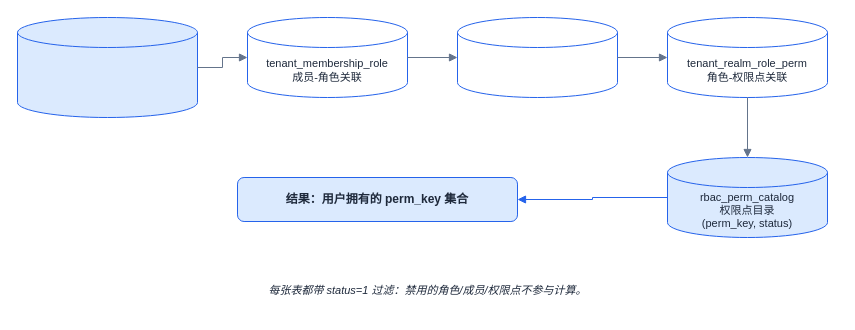
This 855x330 diagram has some shape labels left out. The shapes that lost their labels are listed below. From the top down, each one's box as (x1, y1, x2, y2) in pixels, then its label:
(16, 16, 198, 118): tenant_subject_membership 用户成员身份 (tenantId, realm, scope, userId)
(456, 16, 618, 98): tenant_realm_role 角色定义 (realm 隔离, status)
